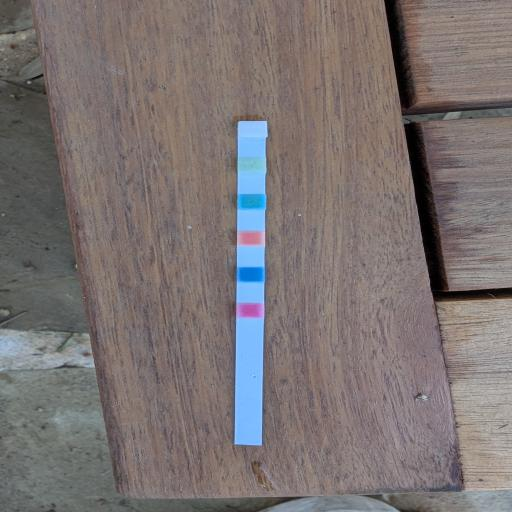strip: (234, 121, 267, 446)
